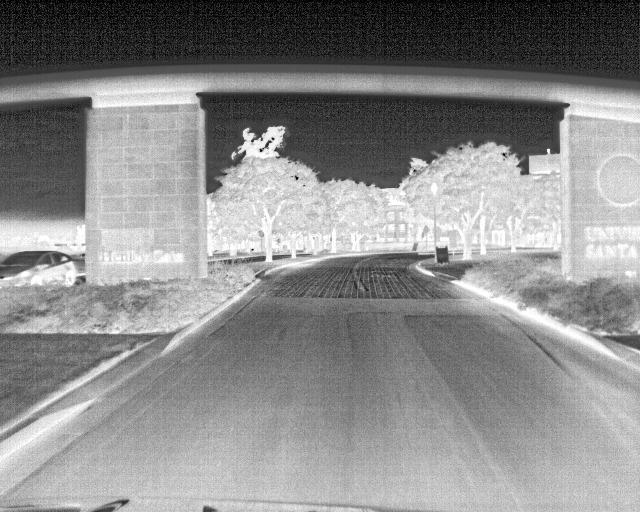car: (1, 249, 79, 291)
